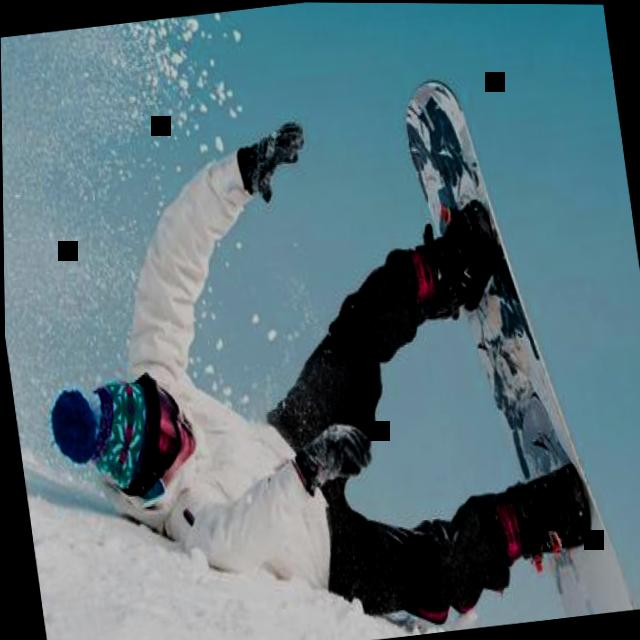Fall-Detected: (0, 21, 626, 640)
